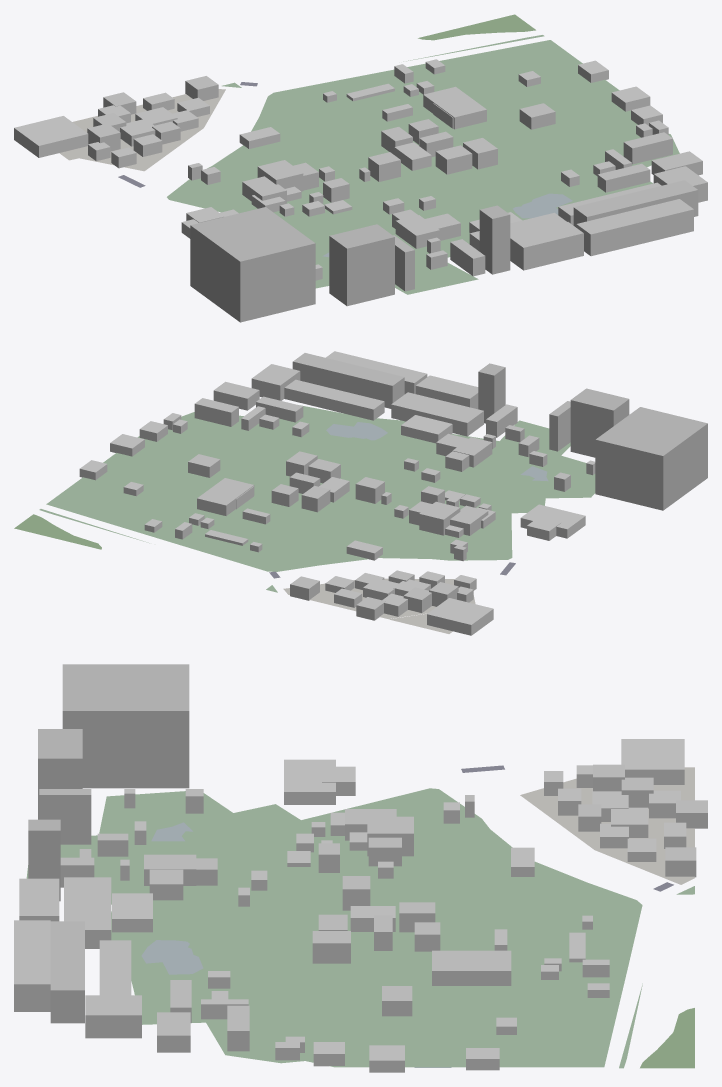
The model's file is 112_101_mid.glb.
3 views of the same model, one above another, from view 1: azimuth 30°, elevation 25°; view 2: azimuth 150°, elevation 25°; view 3: azimuth 270°, elevation 25° (orthographic). The views are drawn at different scales.
Bounding box in the file's own units: 548 × 61.7 × 488.
